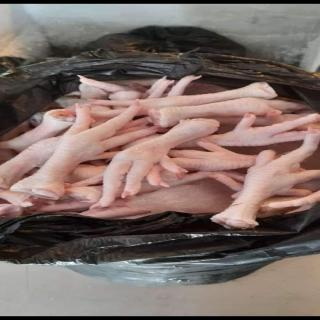Ayam: (1, 72, 320, 233), (6, 98, 165, 203), (82, 116, 224, 213), (205, 125, 320, 233)
